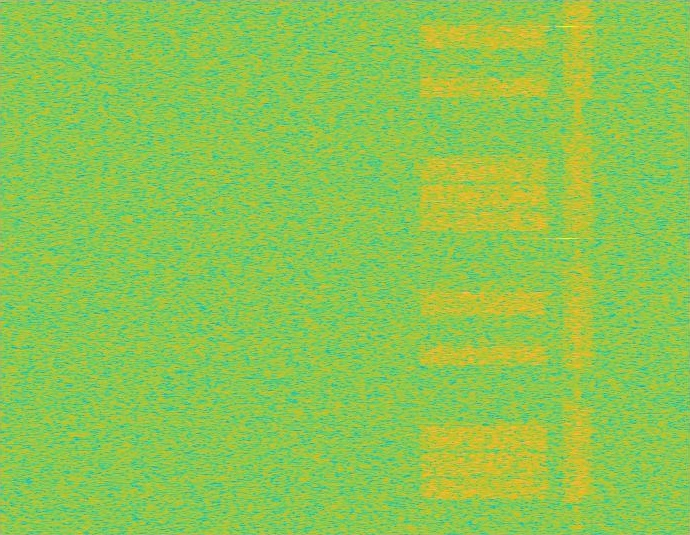5G: (561, 0, 595, 534)
DSSS: (574, 0, 582, 534)
LTE: (415, 0, 553, 534)
Radar: (561, 0, 574, 534)
